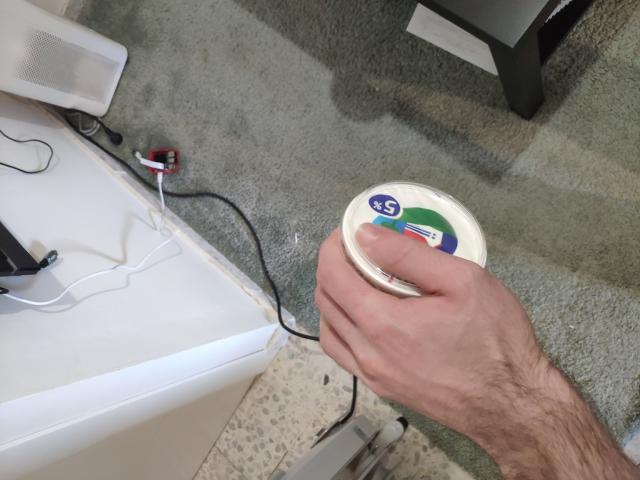cotage: (339, 180, 486, 309)
